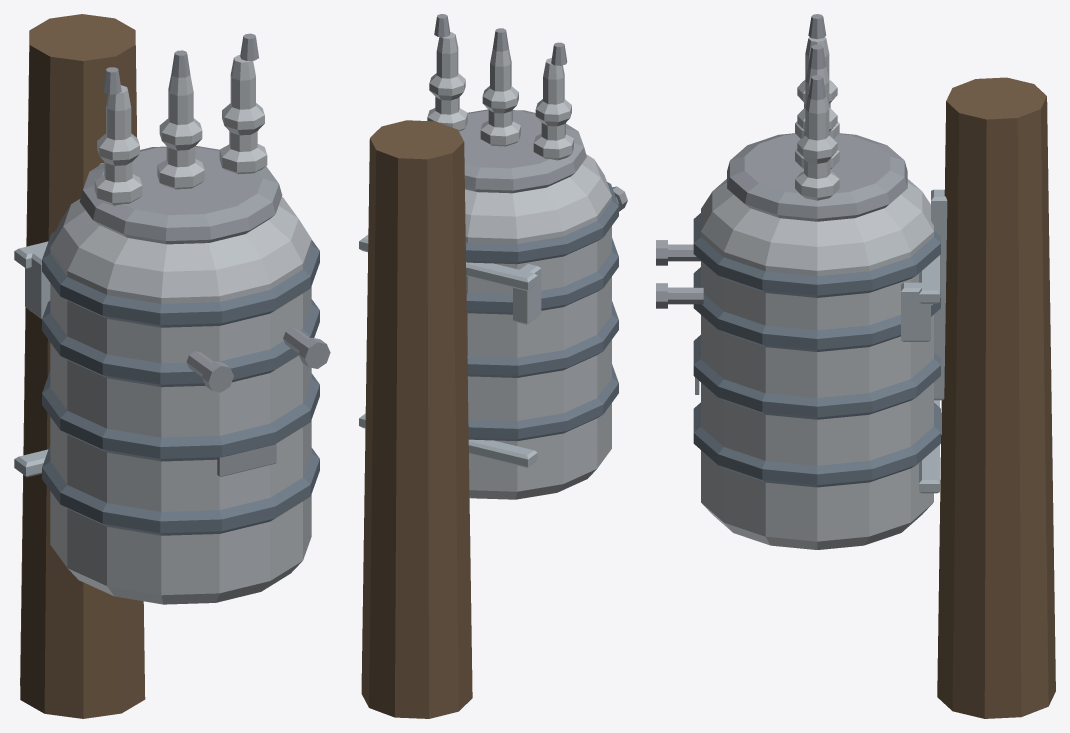
File: UTILITY_02.obj
3 renders of one model, left to right at view 1: azimuth 30°, elevation 25°; view 2: azimuth 150°, elevation 25°; view 3: azimuth 270°, elevation 25°, orthographic. The views are drawn at different scales.
Visible parts, largest first — view 1: UTILITY_02__tank, UTILITY_02__pole_section, UTILITY_02__ribs, UTILITY_02__lid_ring, UTILITY_02__bushing_HV, UTILITY_02__terminal_LV, UTILITY_02__terminal_HV, UTILITY_02__hanger_lug, UTILITY_02__nameplate, UTILITY_02__mount_strap; view 2: UTILITY_02__pole_section, UTILITY_02__tank, UTILITY_02__ribs, UTILITY_02__bushing_HV, UTILITY_02__lid_ring, UTILITY_02__mount_strap, UTILITY_02__hanger_lug, UTILITY_02__terminal_HV; view 3: UTILITY_02__pole_section, UTILITY_02__tank, UTILITY_02__ribs, UTILITY_02__lid_ring, UTILITY_02__bushing_HV, UTILITY_02__hanger_bar, UTILITY_02__terminal_LV, UTILITY_02__mount_strap, UTILITY_02__hanger_lug, UTILITY_02__terminal_HV.
Boxes of the visible parts, x1,y1,x2,y2 form: UTILITY_02__tank: [50, 197, 311, 604]; UTILITY_02__pole_section: [20, 14, 145, 718]; UTILITY_02__ribs: [42, 231, 319, 535]; UTILITY_02__lid_ring: [79, 146, 282, 244]; UTILITY_02__bushing_HV: [94, 55, 267, 205]; UTILITY_02__terminal_LV: [186, 327, 330, 392]; UTILITY_02__terminal_HV: [103, 33, 258, 94]; UTILITY_02__hanger_lug: [25, 248, 50, 318]; UTILITY_02__nameplate: [217, 443, 276, 476]; UTILITY_02__mount_strap: [14, 241, 48, 477]; UTILITY_02__pole_section: [361, 120, 472, 718]; UTILITY_02__tank: [465, 154, 611, 499]; UTILITY_02__ribs: [465, 182, 618, 441]; UTILITY_02__bushing_HV: [427, 32, 573, 160]; UTILITY_02__lid_ring: [459, 109, 586, 193]; UTILITY_02__mount_strap: [359, 234, 537, 467]; UTILITY_02__hanger_lug: [513, 264, 541, 324]; UTILITY_02__terminal_HV: [434, 14, 567, 65]; UTILITY_02__pole_section: [937, 77, 1055, 718]; UTILITY_02__tank: [701, 179, 933, 549]; UTILITY_02__ribs: [693, 213, 940, 487]; UTILITY_02__lid_ring: [727, 133, 907, 221]; UTILITY_02__bushing_HV: [795, 37, 839, 200]; UTILITY_02__hanger_bar: [931, 189, 947, 400]; UTILITY_02__terminal_LV: [656, 240, 703, 308]; UTILITY_02__mount_strap: [919, 255, 939, 493]; UTILITY_02__hanger_lug: [901, 282, 930, 341]; UTILITY_02__terminal_HV: [808, 14, 826, 100].
Bounding box in the file's own units: 0.85 × 2.39 × 1.34.
